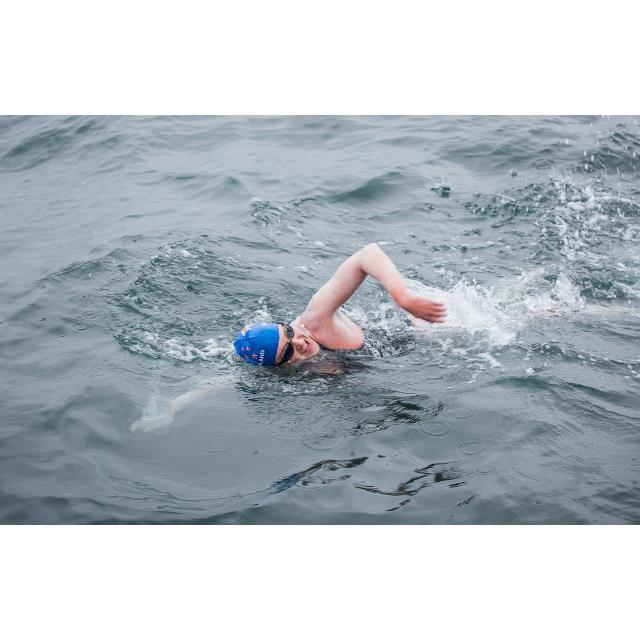human: (150, 236, 453, 427)
